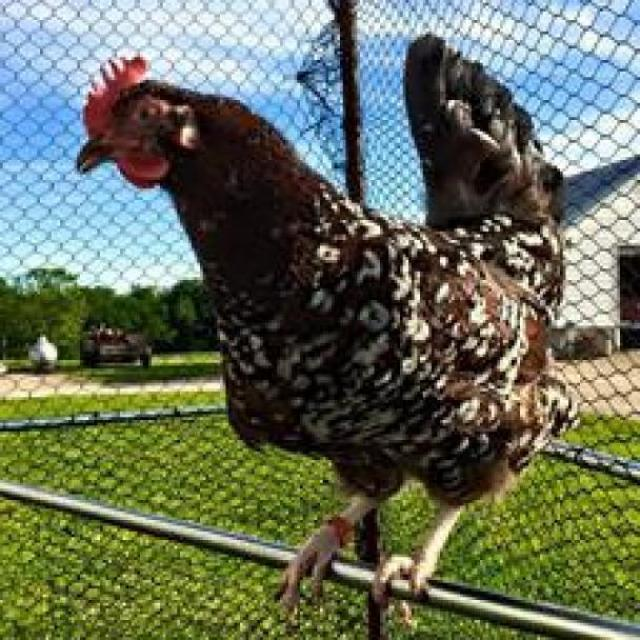Chicken: (38, 13, 607, 611)
